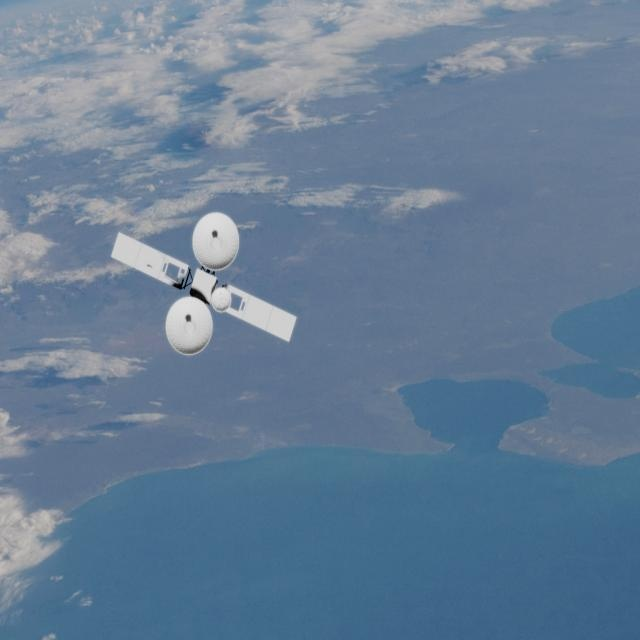satellite: (100, 202, 320, 366)
